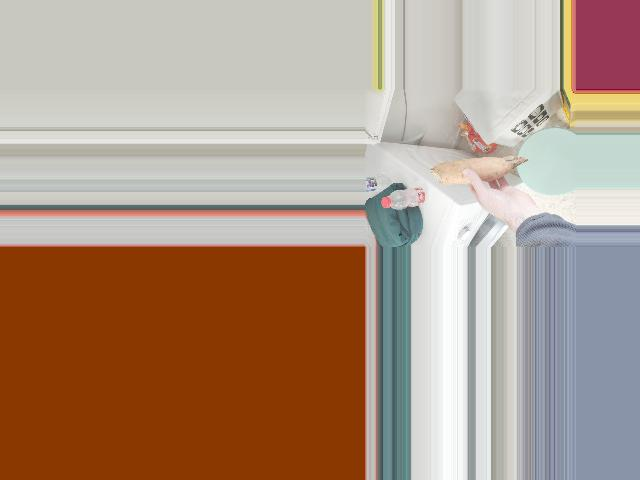sweet_potato: (437, 156, 530, 183)
